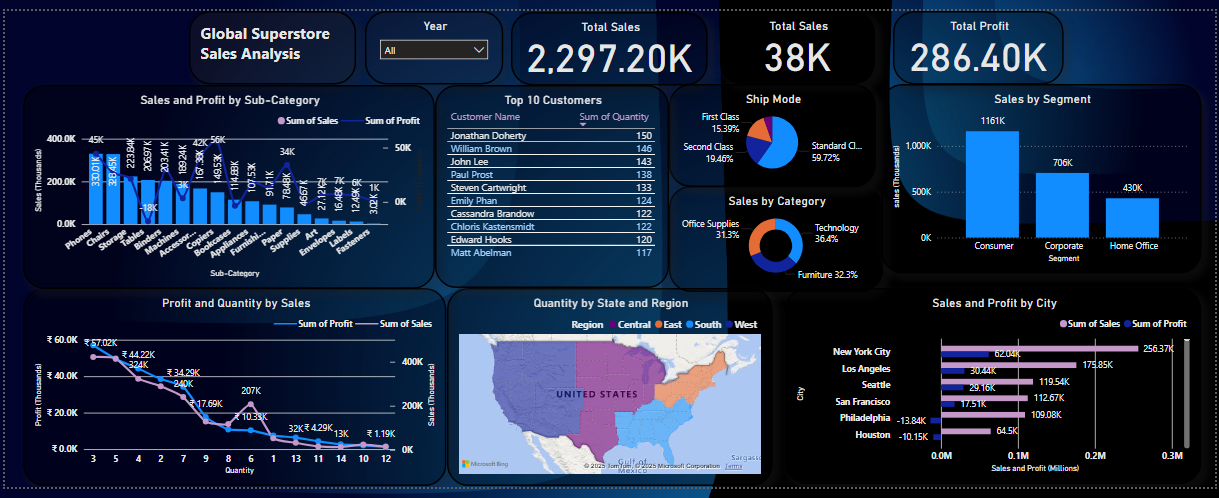

This screenshot's page, from the dashboard's own definition file:
{"tool":"powerbi","page":{"name":"Page 8","canvas":[1680,660],"ordinal":0},"visuals":[{"type":"textbox","box":[255,0,231.7,101.7],"z":0},{"type":"slicer","title":"Year","fields":{"Values":["Orders.Order Date.Variation.Date Hierarchy.Year"]},"box":[500,0,191.7,101.7],"z":1000},{"type":"card","title":"Total Sales","fields":{"Values":["Orders.Sales"]},"box":[703.3,1.7,273.3,101.7],"z":2000},{"type":"card","title":"Total Profit","fields":{"Values":["Orders.Profit"]},"box":[1233.3,0,236.7,101.7],"z":3000},{"type":"card","title":"Total Sales","fields":{"Values":["Orders.Quantity"]},"box":[993.3,0,215,101.7],"z":4000},{"type":"lineChart","title":"Profit and Quantity by Sales","fields":{"Category":["Orders.Quantity"],"Y":["Orders.Profit"],"Y2":["Orders.Sales"]},"box":[25,385,588.3,275],"z":5000},{"type":"donutChart","title":"Sales by Category","fields":{"Y":["Orders.Sales"],"Category":["Orders.Category"]},"box":[921.7,243.3,296.7,146.7],"z":6000},{"type":"clusteredColumnChart","title":"Sales by Segment","fields":{"Category":["Orders.Segment"],"Y":["Orders.Sales"]},"box":[1216.7,101.7,445,263.3],"z":7000},{"type":"clusteredBarChart","title":"Sales and Profit by City","fields":{"Category":["Orders.City"],"Y":["Orders.Sales","Orders.Profit"]},"box":[1083.3,385,578.3,271.7],"z":8000},{"type":"pieChart","title":"Ship Mode ","fields":{"Category":["Orders.Ship Mode"],"Y":["Orders.Ship Mode"]},"box":[921.7,101.7,286.7,143.3],"z":9000},{"type":"filledMap","title":" Quantity by State and Region","fields":{"Category":["Orders.State"],"Series":["People.Region"]},"box":[613.3,385,451.7,275],"z":10000},{"type":"lineClusteredColumnComboChart","title":"Sales and Profit by Sub-Category","fields":{"Category":["Orders.Sub-Category"],"Y2":["Orders.Profit"],"Y":["Orders.Sales"]},"box":[25,103.3,571.7,283.3],"z":11000},{"type":"tableEx","title":"Top 10 Customers ","fields":{"Values":["Orders.Customer Name","Orders.Quantity"]},"box":[597.2,102.8,325,281.9],"z":12000}]}

Visuals, with their boxes on the page's 1680x660 design canvas (x1, y1, x2, y2). These are canvas units, not pixel positions in the 1219x498 screenshot, which may show the page scaled, cropped or inside an application window:
textbox: locate(255, 0, 487, 102)
"Year" slicer: locate(500, 0, 692, 102)
"Total Sales" card: locate(703, 2, 977, 103)
"Total Profit" card: locate(1233, 0, 1470, 102)
"Total Sales" card: locate(993, 0, 1208, 102)
"Profit and Quantity by Sales" lineChart: locate(25, 385, 613, 660)
"Sales by Category" donutChart: locate(922, 243, 1218, 390)
"Sales by Segment" clusteredColumnChart: locate(1217, 102, 1662, 365)
"Sales and Profit by City" clusteredBarChart: locate(1083, 385, 1662, 657)
"Ship Mode " pieChart: locate(922, 102, 1208, 245)
" Quantity by State and Region" filledMap: locate(613, 385, 1065, 660)
"Sales and Profit by Sub-Category" lineClusteredColumnComboChart: locate(25, 103, 597, 387)
"Top 10 Customers " tableEx: locate(597, 103, 922, 385)
